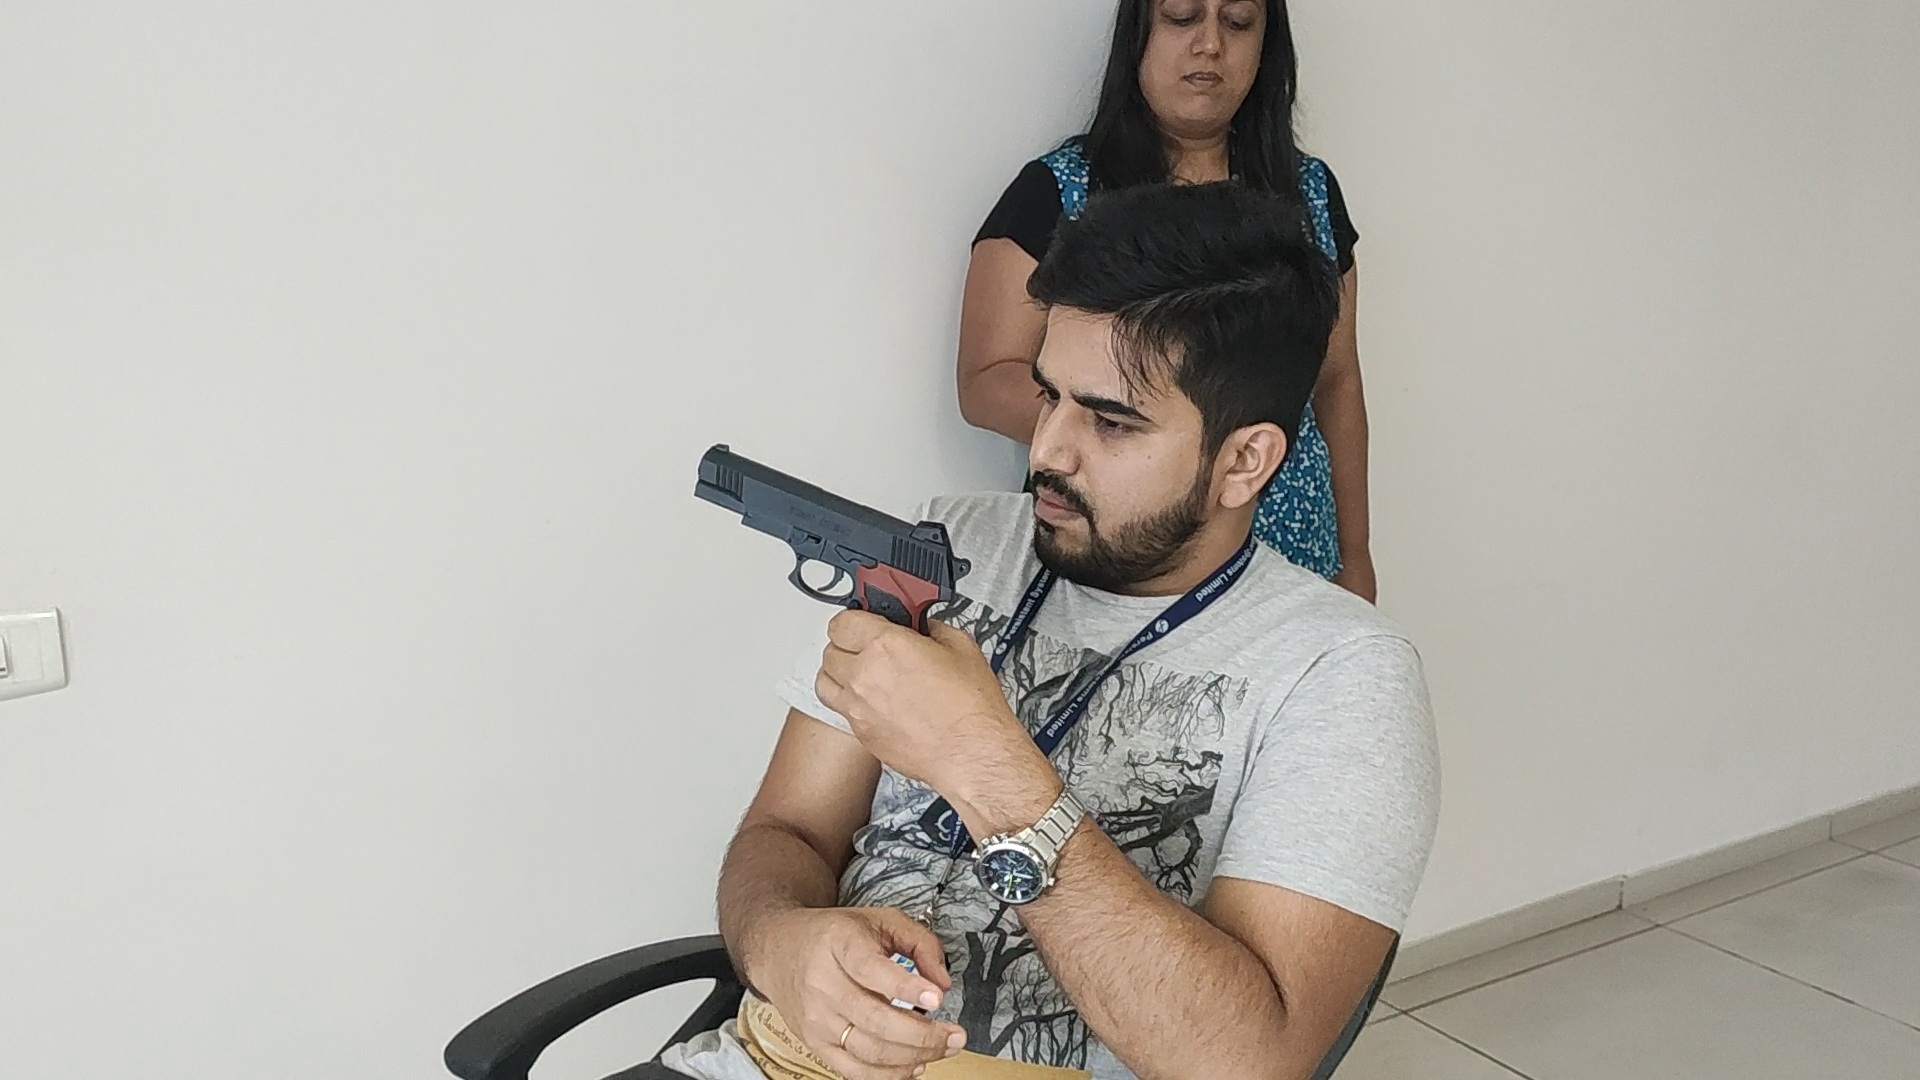gun: (692, 446, 972, 618)
